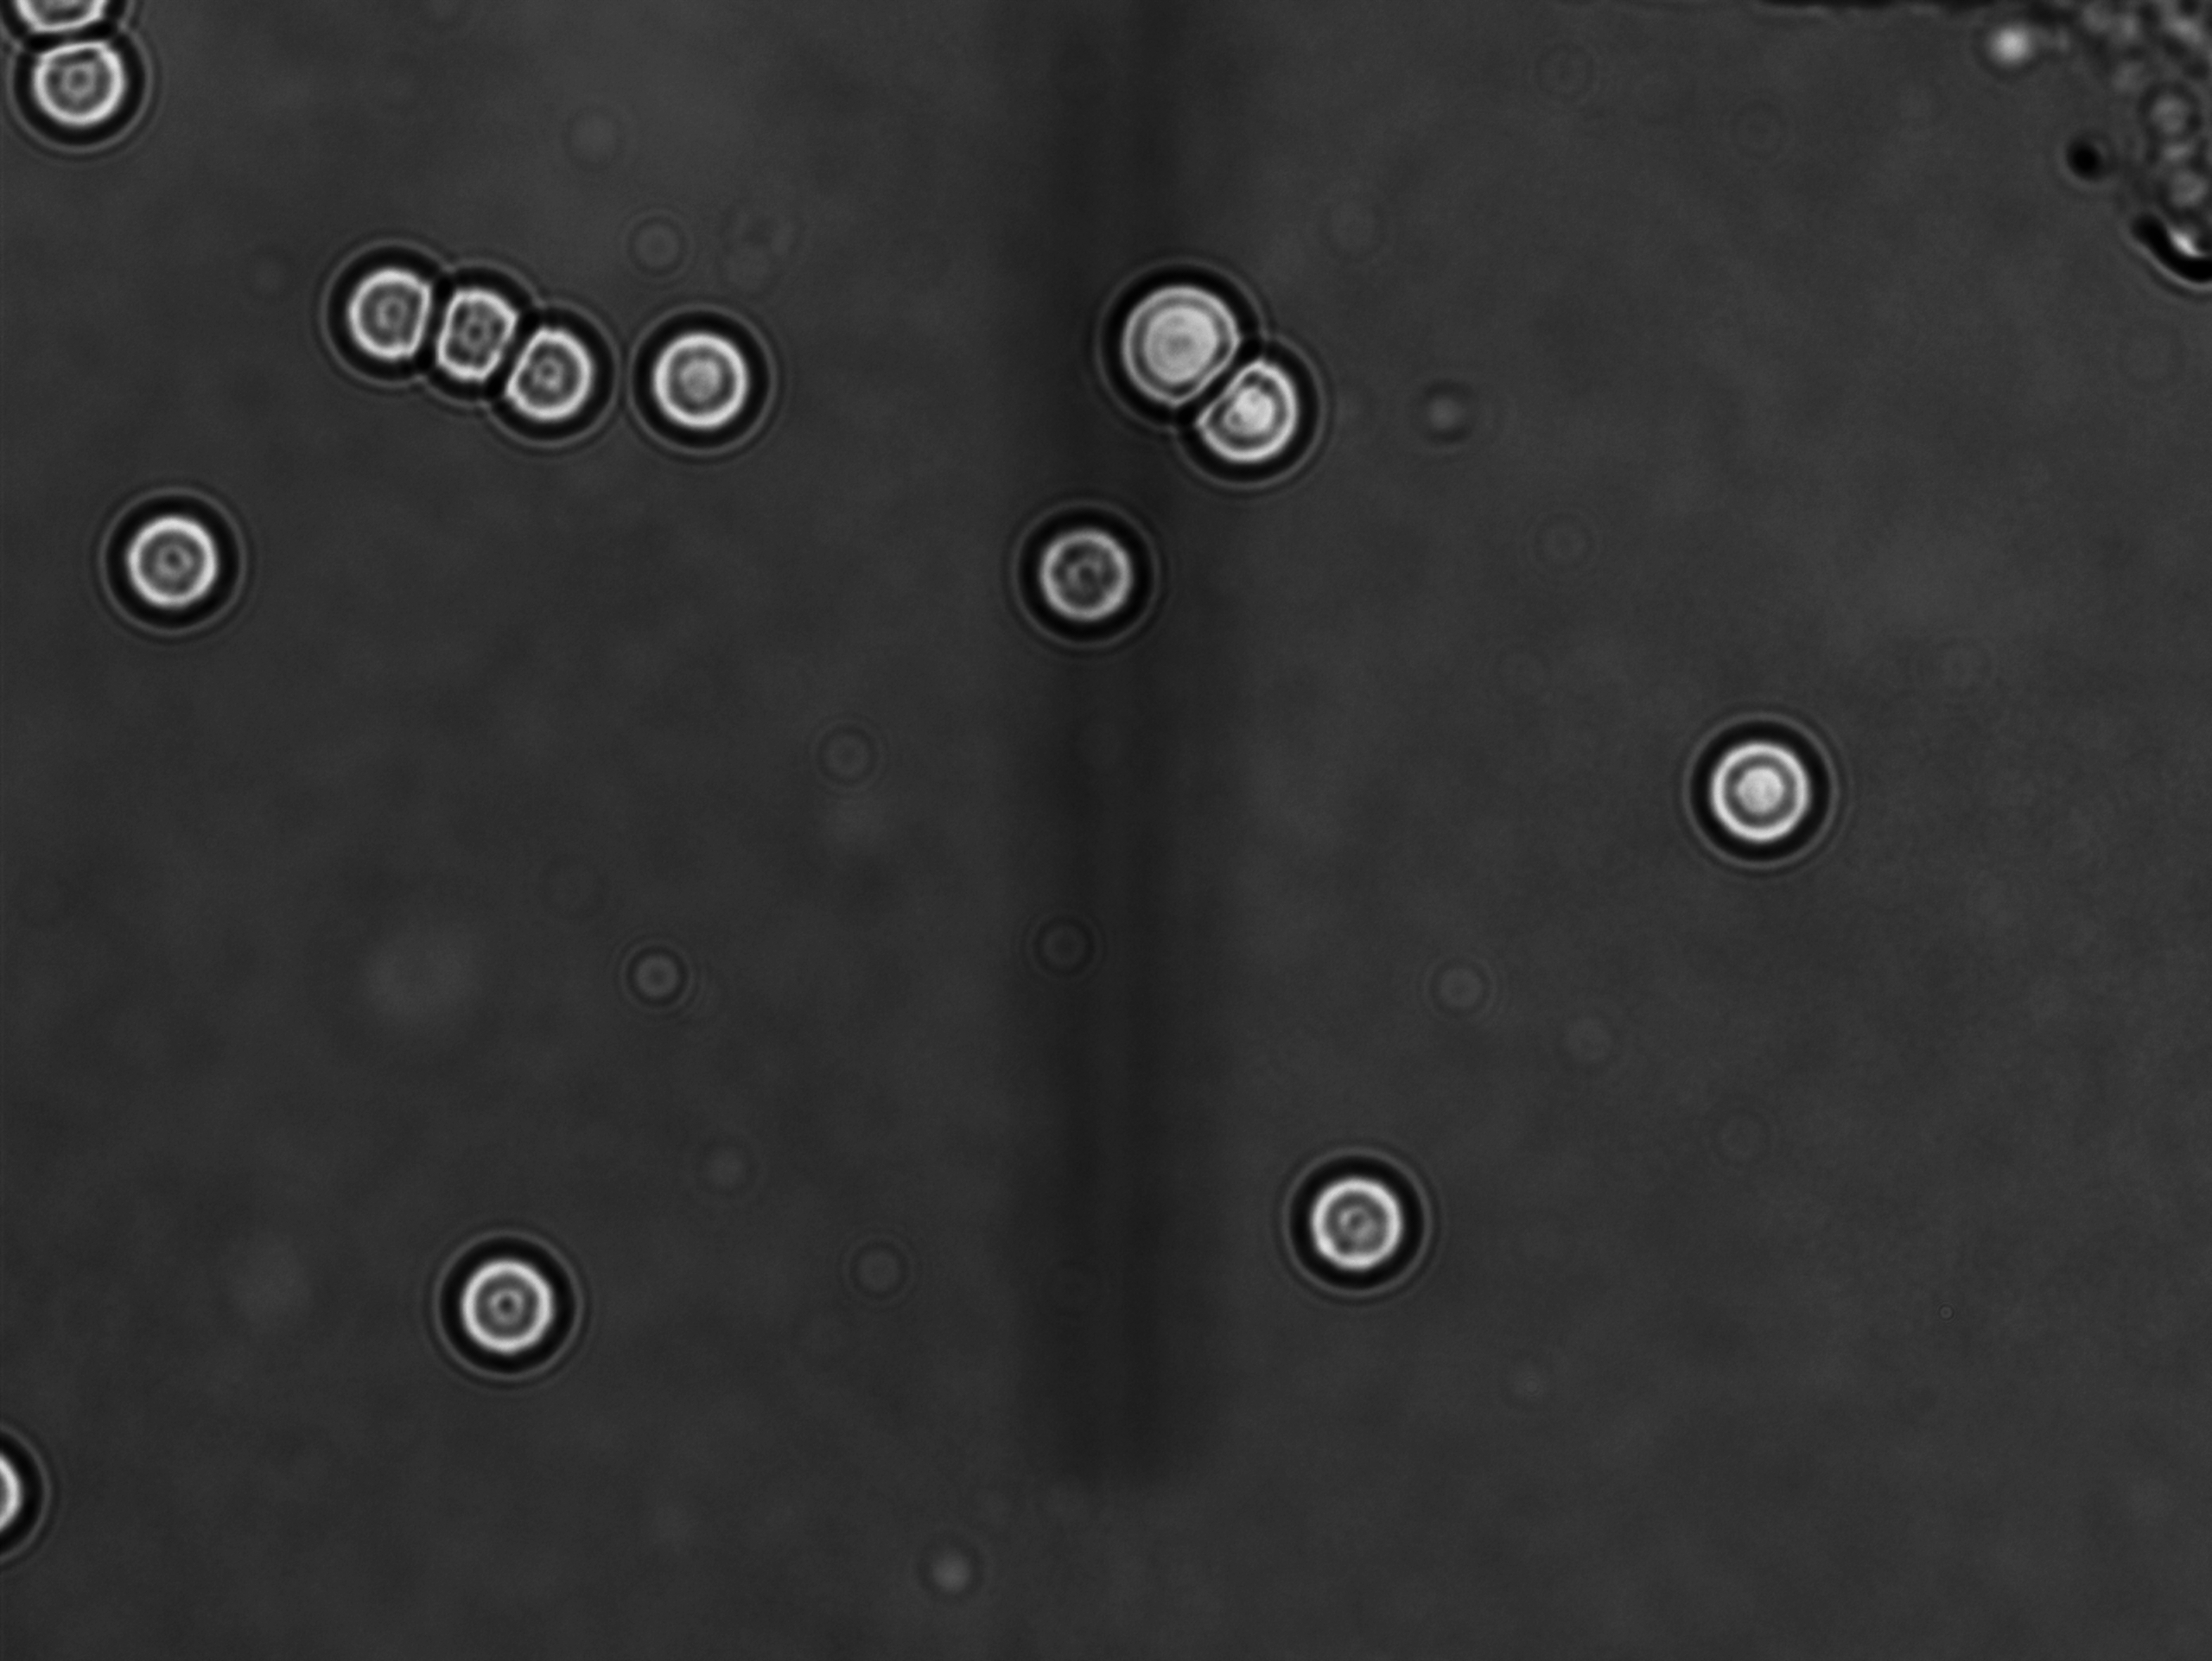depth:20: (611, 297, 801, 476), (420, 1214, 611, 1394), (1666, 701, 1847, 881), (1266, 1139, 1450, 1314), (996, 485, 1176, 661), (82, 476, 263, 649), (481, 291, 647, 462), (405, 239, 567, 405), (305, 234, 462, 389)
